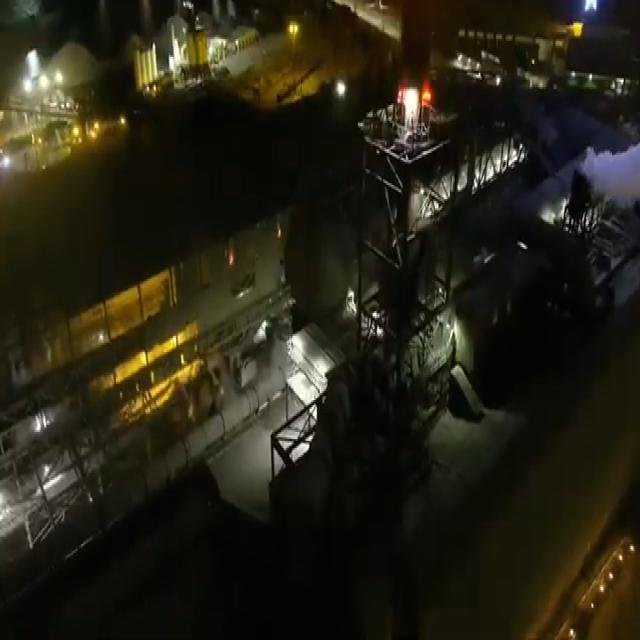smoke: (559, 126, 640, 222)
